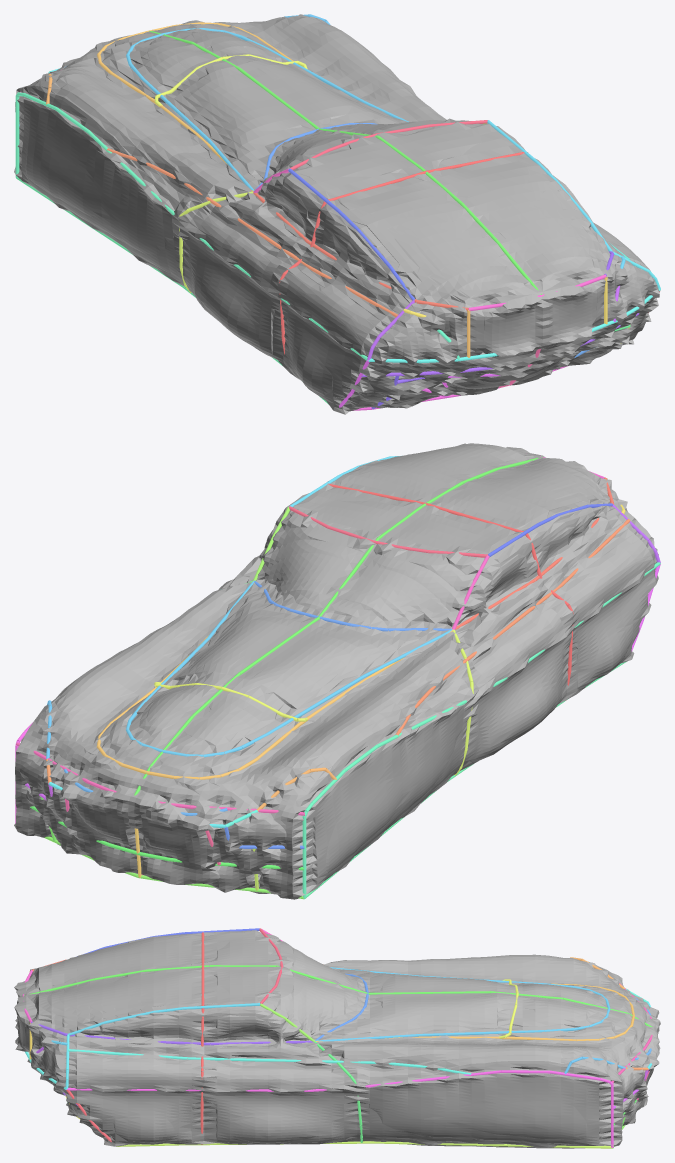
Rendered from t2f_car_93.gltf.
3 renders of one model, top to bottom at view 1: azimuth 30°, elevation 25°; view 2: azimuth 150°, elevation 25°; view 3: azimuth 270°, elevation 25°, orthographic. The views are drawn at different scales.
Size of the model in its own units: 0.4002 by 0.2254 by 0.926.
